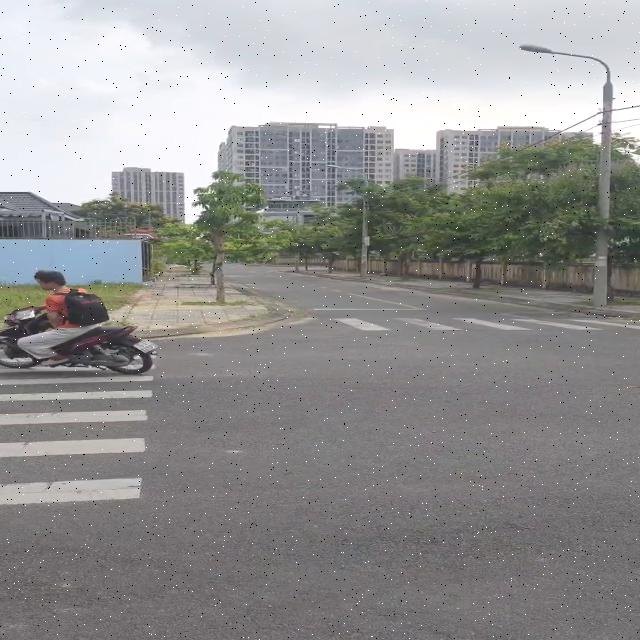no_helmet: (32, 266, 74, 297)
